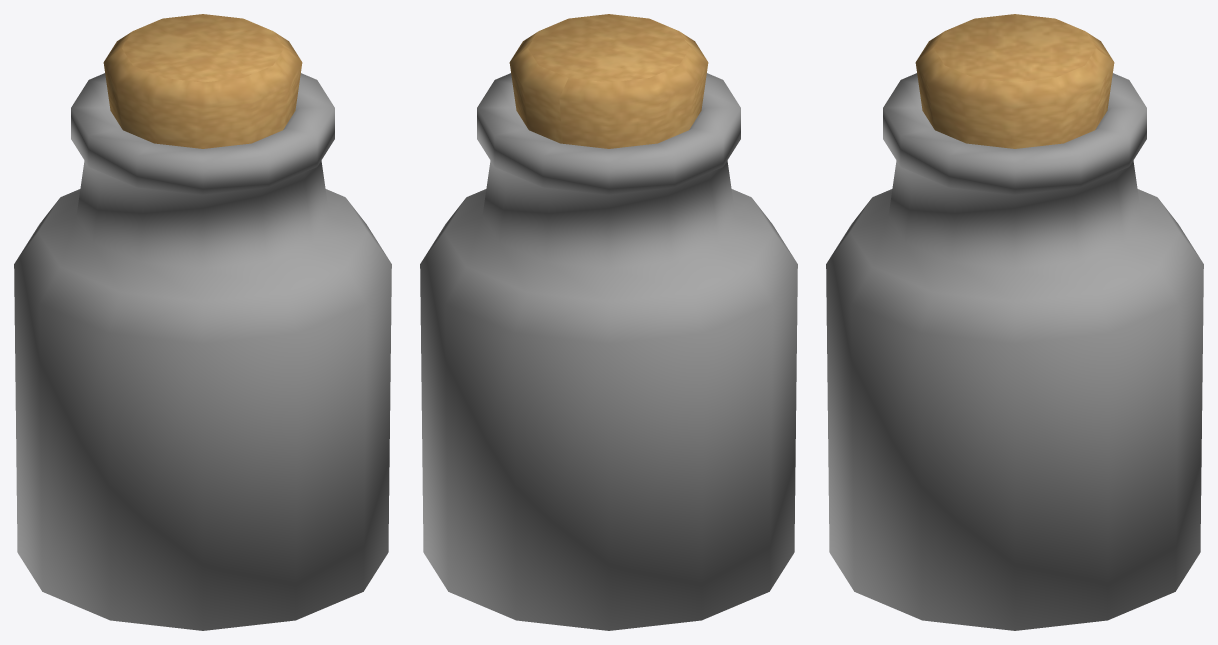
File: marisa_bottle_3.FBX
The picture shows the model from 3 angles, left to right: view 1: azimuth 30°, elevation 25°; view 2: azimuth 150°, elevation 25°; view 3: azimuth 270°, elevation 25°; orthographic projection.
Parts seen in each view (by area): view 1: potion 3; view 2: potion 3; view 3: potion 3.
Part boxes in pixels (x1,y1,x2,y2): potion 3: [14, 14, 391, 630]; potion 3: [420, 14, 797, 630]; potion 3: [826, 14, 1203, 630].
Bounding box in the file's own units: 110 × 163 × 110.
